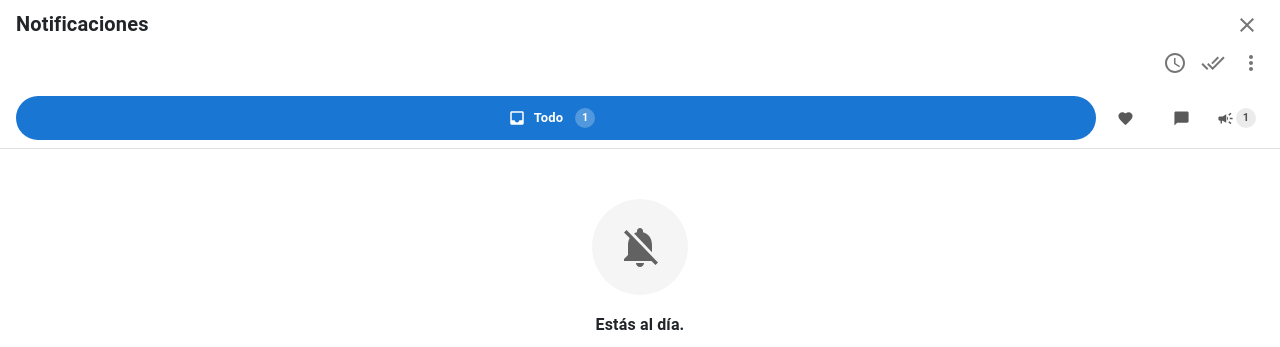
Test case: NotificationPanel › ⋯ menu › navigates to the archived view from the menu
Click the button with test id "notification-menu" at {"x": 1251, "y": 63}, box [1234,46,1268,80]
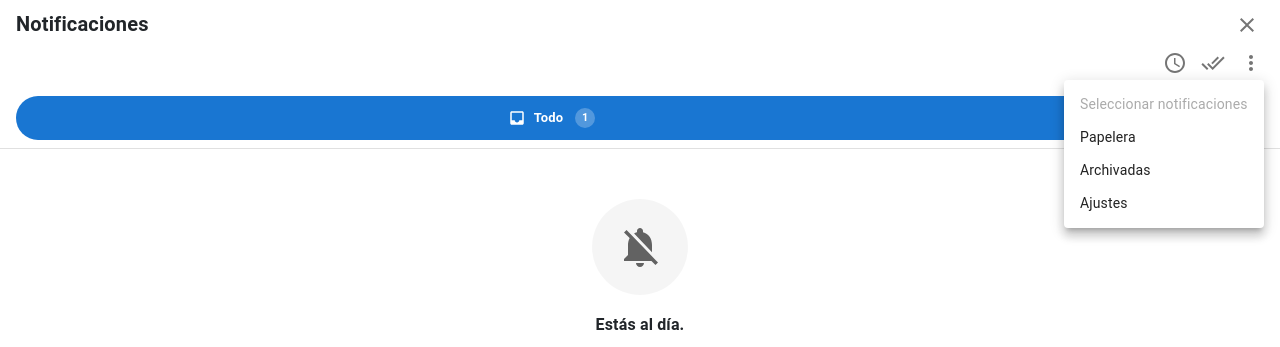
Click the menu item with test id "notification-menu-archived" at {"x": 1115, "y": 170}, box [1080,162,1150,178]
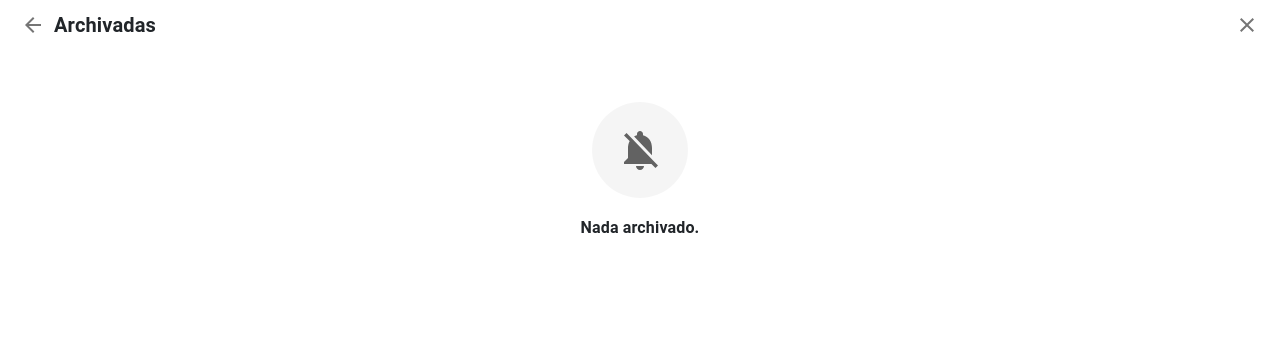
Check: the element with test id "notification-filters" is gone
Check: the button with test id "notification-chip-all" is gone
Check: the button with test id "notification-mark-all" is gone
